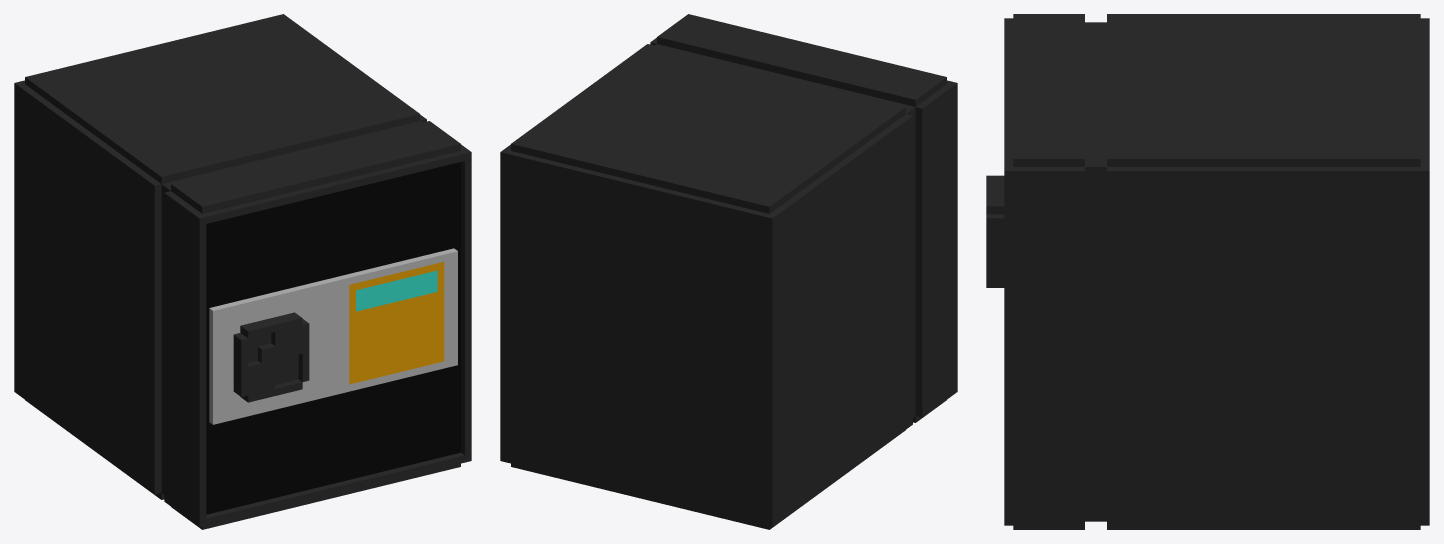
The model's file is Electronic Safe 2.fbx.
3 views of the same model, side by side, from view 1: azimuth 30°, elevation 25°; view 2: azimuth 150°, elevation 25°; view 3: azimuth 270°, elevation 25° (orthographic). The views are drawn at different scales.
Parts seen in each view (by area): view 1: Electronic_safe001; view 2: Electronic_safe001; view 3: Electronic_safe001.
Part boxes in pixels (x1,y1,x2,y2): Electronic_safe001: (14, 14, 471, 529); Electronic_safe001: (500, 14, 957, 529); Electronic_safe001: (986, 14, 1429, 529).
Bounding box in the file's own units: 0.3906 × 0.4431 × 0.4799.
